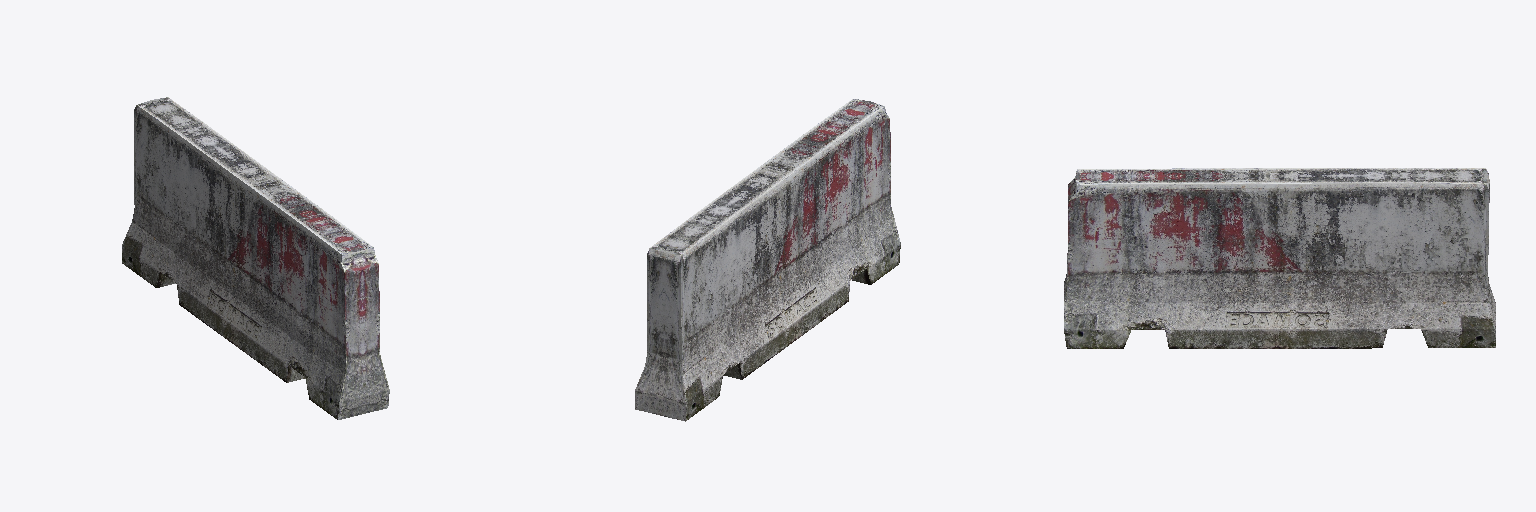
3 views of the same model, side by side, from view 1: azimuth 30°, elevation 25°; view 2: azimuth 150°, elevation 25°; view 3: azimuth 270°, elevation 25° (orthographic).
Parts seen in each view (by area): view 1: Blocks; view 2: Blocks; view 3: Blocks.
Part boxes in pixels (x1,y1,x2,y2): Blocks: (122,97,389,419); Blocks: (635,99,900,421); Blocks: (1064,168,1495,348).
Size of the model in its own units: 21.16 by 63.18 by 154.
1 materials, 1 textured.